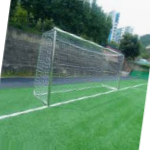goals: (32, 23, 127, 109)
